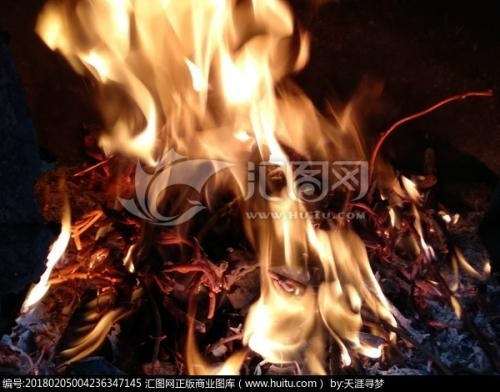fire: (46, 0, 332, 164)
